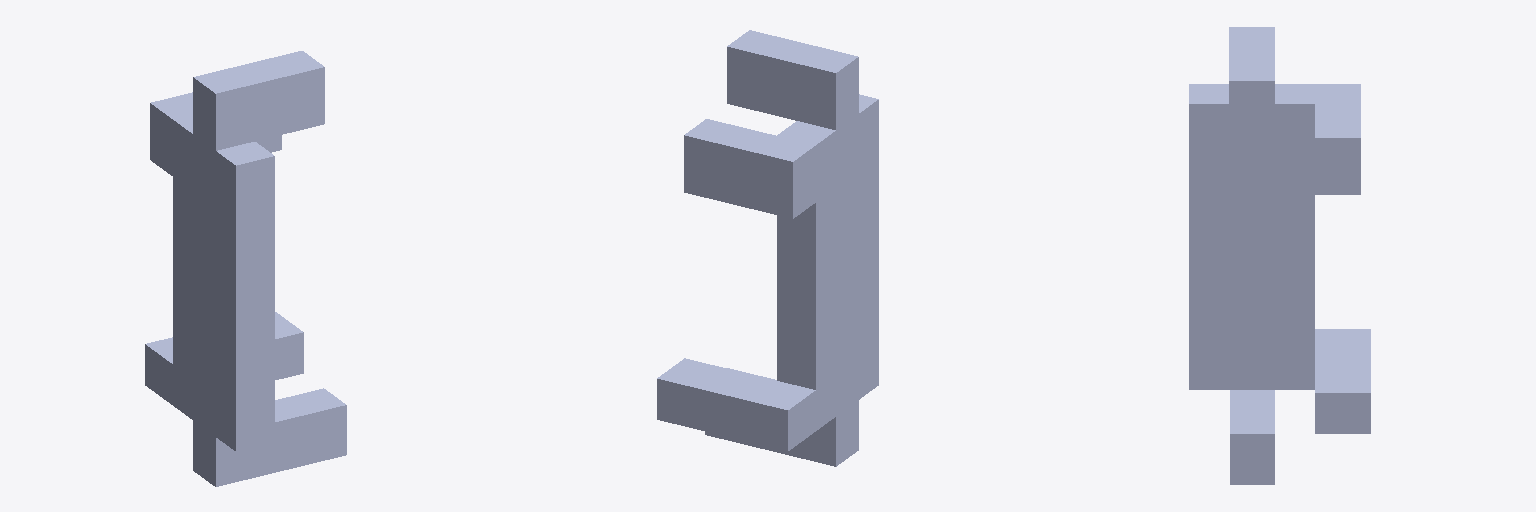
The picture shows the model from 3 angles: view 1: azimuth 30°, elevation 25°; view 2: azimuth 150°, elevation 25°; view 3: azimuth 270°, elevation 25°; orthographic projection.
Visible parts, largest first — view 1: mesh_1_Long-5; view 2: mesh_1_Long-5; view 3: mesh_1_Long-5.
Boxes of the visible parts, <box> form: mesh_1_Long-5: <box>145,51,346,486</box>; mesh_1_Long-5: <box>657,30,878,466</box>; mesh_1_Long-5: <box>1189,27,1370,484</box>.
Bounding box in the file's own units: 0.06 × 0.172 × 0.072.